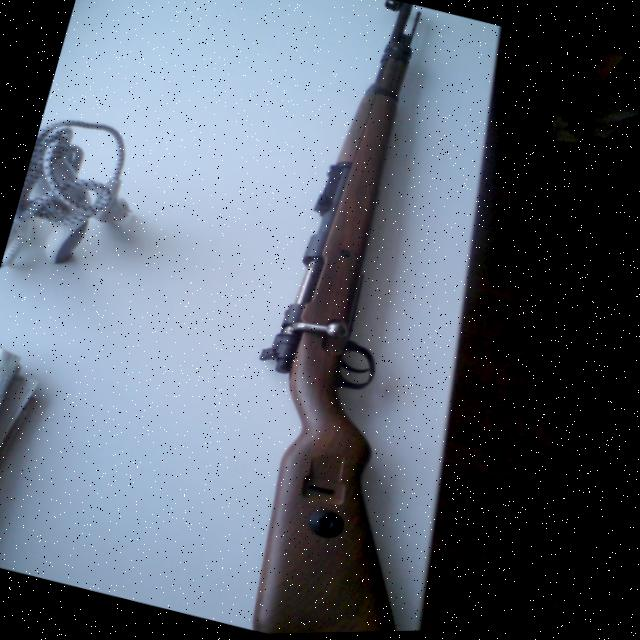firearm: (188, 0, 573, 637)
